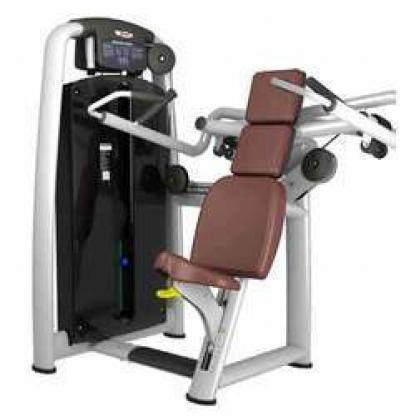shoulder press machine: (30, 17, 397, 403)
